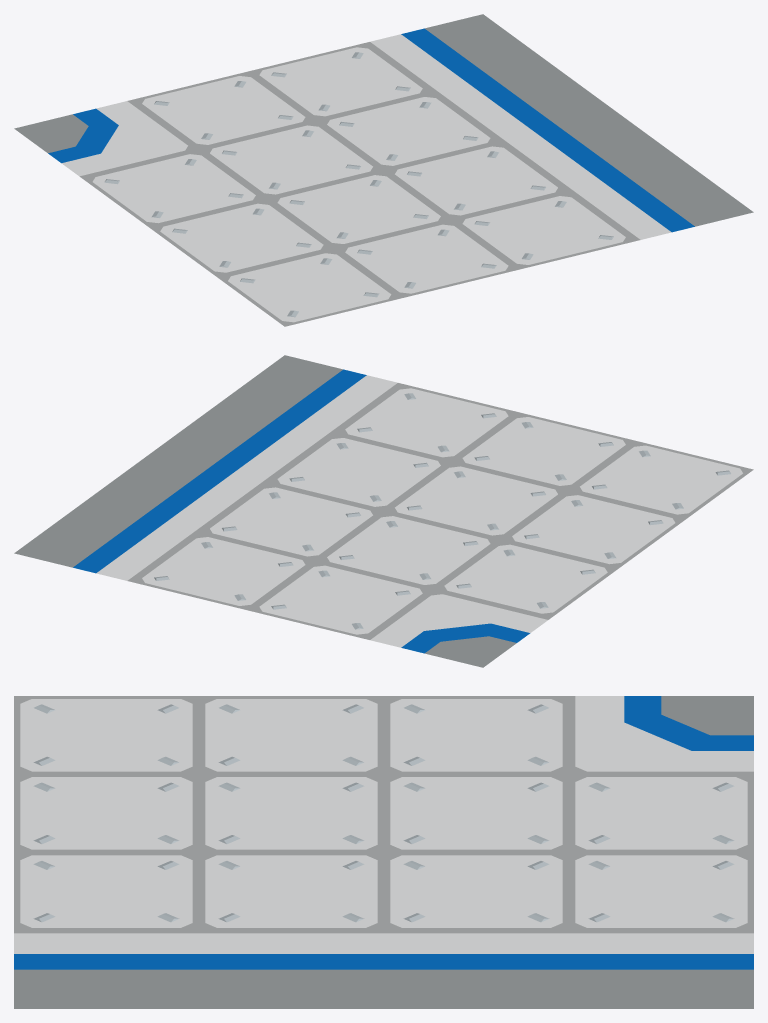
The model's file is Floor_type_A_033.fbx.
The picture shows the model from 3 angles, top to bottom: view 1: azimuth 30°, elevation 25°; view 2: azimuth 150°, elevation 25°; view 3: azimuth 270°, elevation 25°; orthographic projection. The views are drawn at different scales.
Visible parts, largest first — view 1: Floor_type_A_033; view 2: Floor_type_A_033; view 3: Floor_type_A_033.
Boxes of the visible parts, left/top/right/bottom form: Floor_type_A_033: left=14, top=14, right=753, bottom=326; Floor_type_A_033: left=14, top=355, right=753, bottom=667; Floor_type_A_033: left=14, top=696, right=753, bottom=1008.
Bounding box in the file's own units: 400 × 400 × 0.8.
